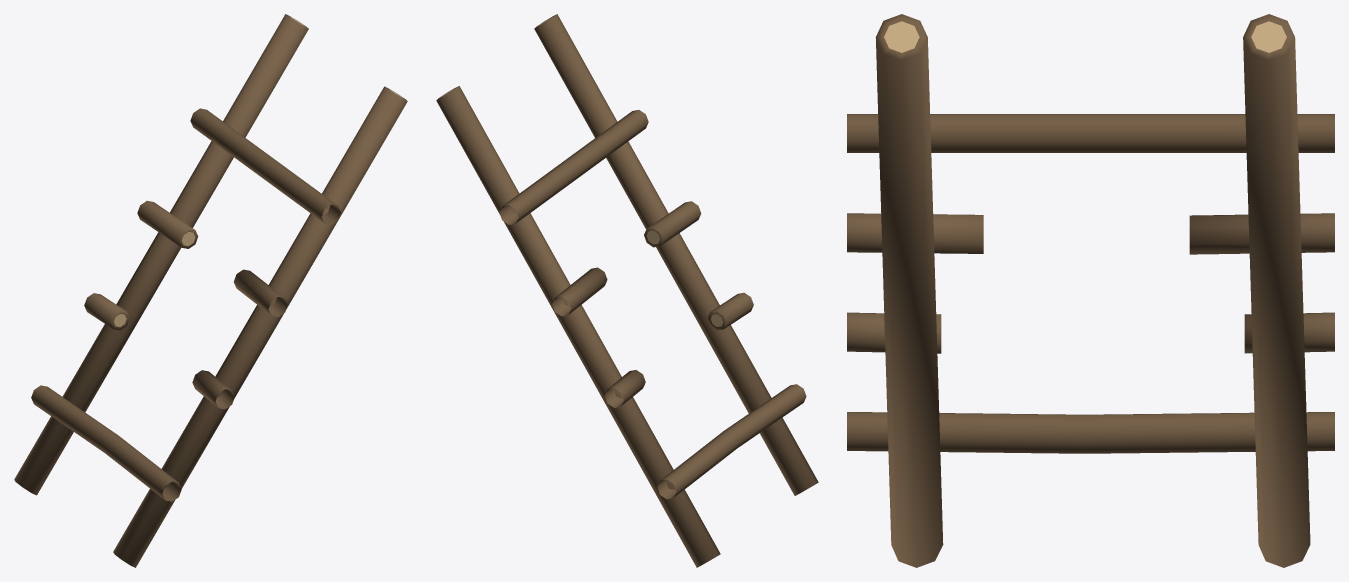
The model's file is rpgpp_ag_roof_support_01_6x5x3_half_a_roof_01c.fbx.
The picture shows the model from 3 angles, left to right: view 1: azimuth 30°, elevation 25°; view 2: azimuth 150°, elevation 25°; view 3: azimuth 270°, elevation 25°; orthographic projection. The views are drawn at different scales.
Visible parts, largest first — view 1: rpgpp_ag_roof_support_01_6x5x3_half_a_roof_01c; view 2: rpgpp_ag_roof_support_01_6x5x3_half_a_roof_01c; view 3: rpgpp_ag_roof_support_01_6x5x3_half_a_roof_01c.
Boxes of the visible parts, left/top/right/bottom form: rpgpp_ag_roof_support_01_6x5x3_half_a_roof_01c: left=14, top=14, right=407, bottom=567; rpgpp_ag_roof_support_01_6x5x3_half_a_roof_01c: left=436, top=14, right=818, bottom=567; rpgpp_ag_roof_support_01_6x5x3_half_a_roof_01c: left=847, top=14, right=1334, bottom=567.
Bounding box in the file's own units: 3.78 × 5.29 × 3.
